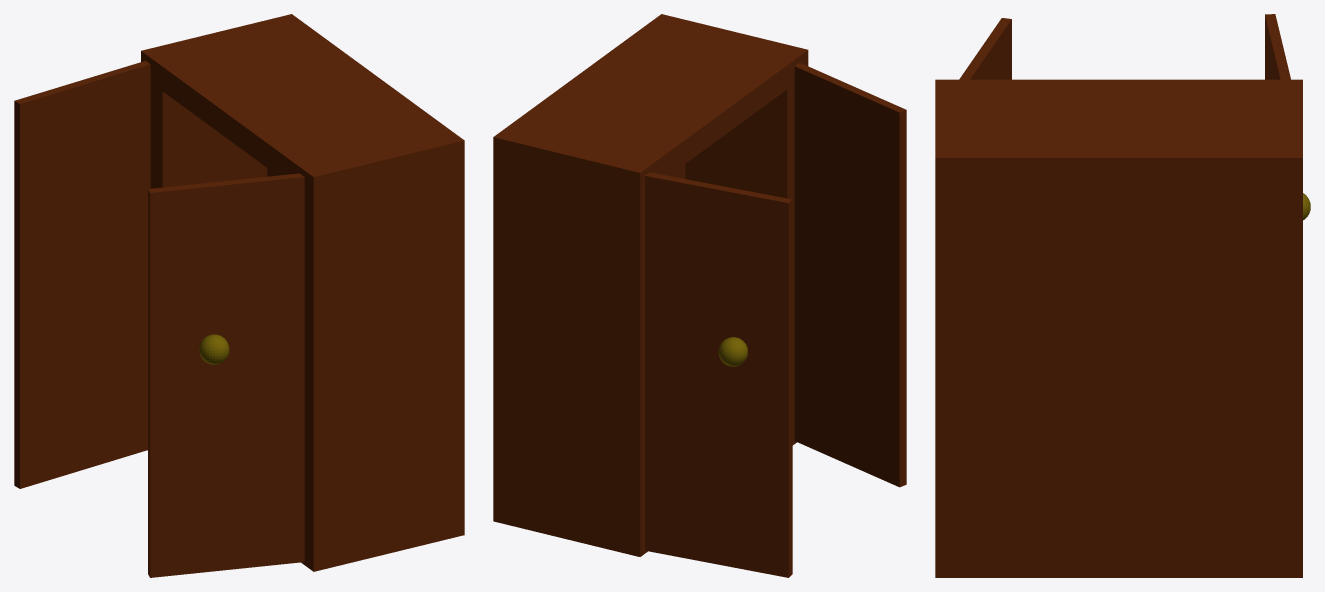
File: НЕ ХОЛОДИЛЬНИК.fbx
3 renders of one model, left to right at view 1: azimuth 30°, elevation 25°; view 2: azimuth 150°, elevation 25°; view 3: azimuth 270°, elevation 25°, orthographic. The views are drawn at different scales.
Parts seen in each view (by area): view 1: Куб; view 2: Куб; view 3: Куб.
Boxes of the visible parts, <box> form: Куб: <box>14,14,464,577</box>; Куб: <box>493,14,906,577</box>; Куб: <box>935,14,1310,577</box>.
Size of the model in its own units: 154 by 200 by 162.
